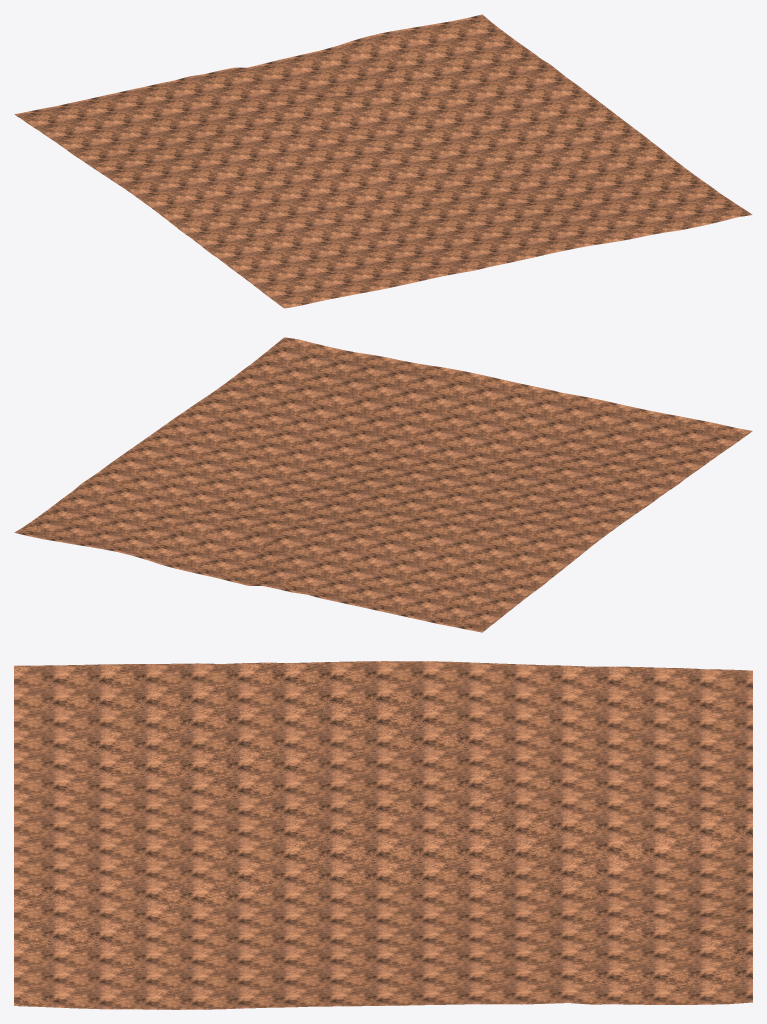
Rendered from terrain_09_15.dae.
3 renders of one model, top to bottom at view 1: azimuth 30°, elevation 25°; view 2: azimuth 150°, elevation 25°; view 3: azimuth 270°, elevation 25°, orthographic. The views are drawn at different scales.
Parts seen in each view (by area): view 1: terrain_09_15-node; view 2: terrain_09_15-node; view 3: terrain_09_15-node.
Boxes of the visible parts, box(x1,y1,x2,y2) form: terrain_09_15-node: box(14, 14, 752, 308); terrain_09_15-node: box(14, 337, 752, 632); terrain_09_15-node: box(14, 661, 752, 1009).
Bounding box in the file's own units: 128 × 128 × 6.96.
Materials: 1 (1 with a texture image).
